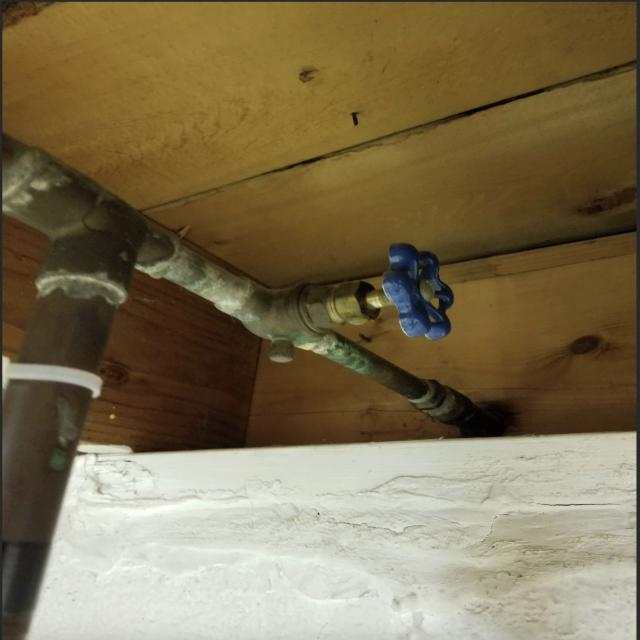Wheel Handle Valve Threaded: (135, 244, 451, 374)
